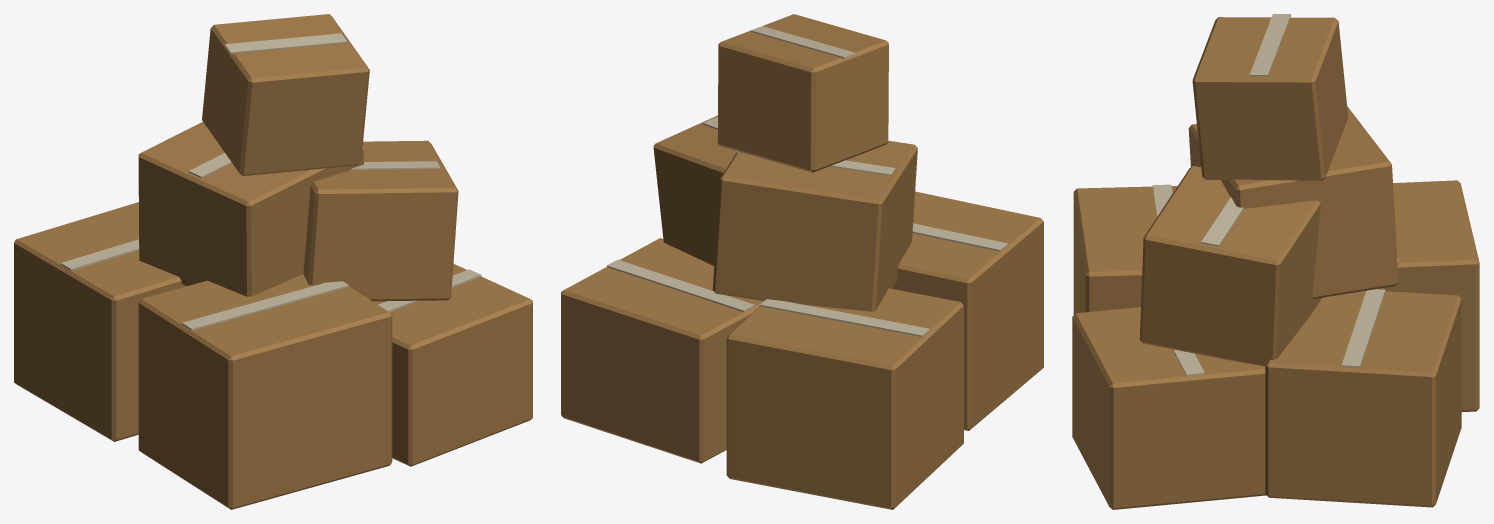
File: prop_cardboard_pile.obj
3 views of the same model, side by side, from view 1: azimuth 30°, elevation 25°; view 2: azimuth 150°, elevation 25°; view 3: azimuth 270°, elevation 25° (orthographic). The views are drawn at different scales.
Visible parts, largest first — view 1: Box_2, Box_0, Box_3, Box_4, Box_6, Box_5, Tape_2, Tape_6, Tape_0, Tape_5; view 2: Box_0, Box_1, Box_4, Box_6, Box_2, Box_5, Tape_0, Tape_1, Tape_2, Tape_6, Tape_4; view 3: Box_1, Box_3, Box_5, Box_6, Box_4, Box_0, Box_2, Tape_1, Tape_6, Tape_5, Tape_3.
Boxes of the visible parts, x1=… form: Box_2: x1=138, y1=274, x2=392, y2=509; Box_0: x1=14, y1=202, x2=185, y2=441; Box_3: x1=373, y1=263, x2=532, y2=466; Box_4: x1=138, y1=122, x2=363, y2=296; Box_6: x1=202, y1=14, x2=369, y2=175; Box_5: x1=303, y1=140, x2=458, y2=301; Tape_2: x1=182, y1=281, x2=348, y2=330; Tape_6: x1=224, y1=33, x2=347, y2=53; Tape_0: x1=60, y1=239, x2=139, y2=270; Tape_5: x1=351, y1=161, x2=440, y2=169; Box_0: x1=726, y1=288, x2=963, y2=509; Box_1: x1=561, y1=238, x2=763, y2=463; Box_4: x1=712, y1=140, x2=917, y2=311; Box_6: x1=717, y1=14, x2=888, y2=172; Box_2: x1=892, y1=191, x2=1043, y2=430; Box_5: x1=653, y1=115, x2=735, y2=265; Tape_0: x1=760, y1=299, x2=929, y2=337; Tape_1: x1=607, y1=259, x2=754, y2=312; Tape_2: x1=912, y1=223, x2=1008, y2=251; Tape_6: x1=751, y1=26, x2=855, y2=58; Tape_4: x1=735, y1=150, x2=895, y2=175; Box_1: x1=1265, y1=290, x2=1461, y2=507; Box_3: x1=1072, y1=307, x2=1266, y2=509; Box_5: x1=1139, y1=166, x2=1321, y2=366; Box_6: x1=1192, y1=17, x2=1348, y2=180; Box_4: x1=1188, y1=106, x2=1398, y2=298; Box_0: x1=1378, y1=180, x2=1479, y2=411; Box_2: x1=1073, y1=186, x2=1177, y2=314; Tape_1: x1=1341, y1=289, x2=1385, y2=367; Tape_6: x1=1249, y1=14, x2=1291, y2=76; Tape_5: x1=1201, y1=197, x2=1243, y2=246; Tape_3: x1=1172, y1=349, x2=1204, y2=376.
Bounding box in the file's own units: 1.84 × 1.83 × 1.75.
